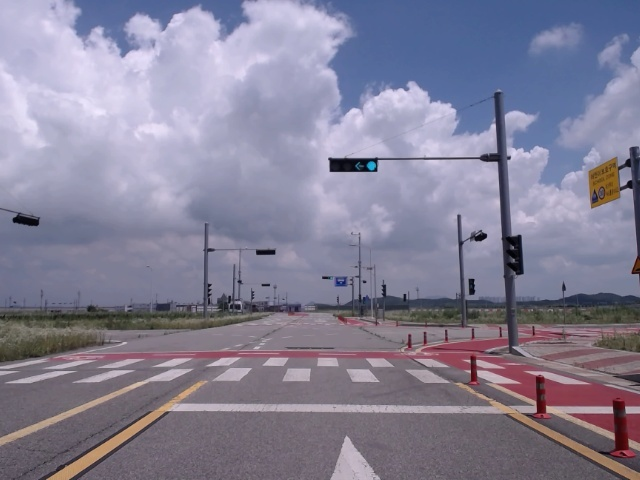all_green_4: (330, 158, 376, 171)
